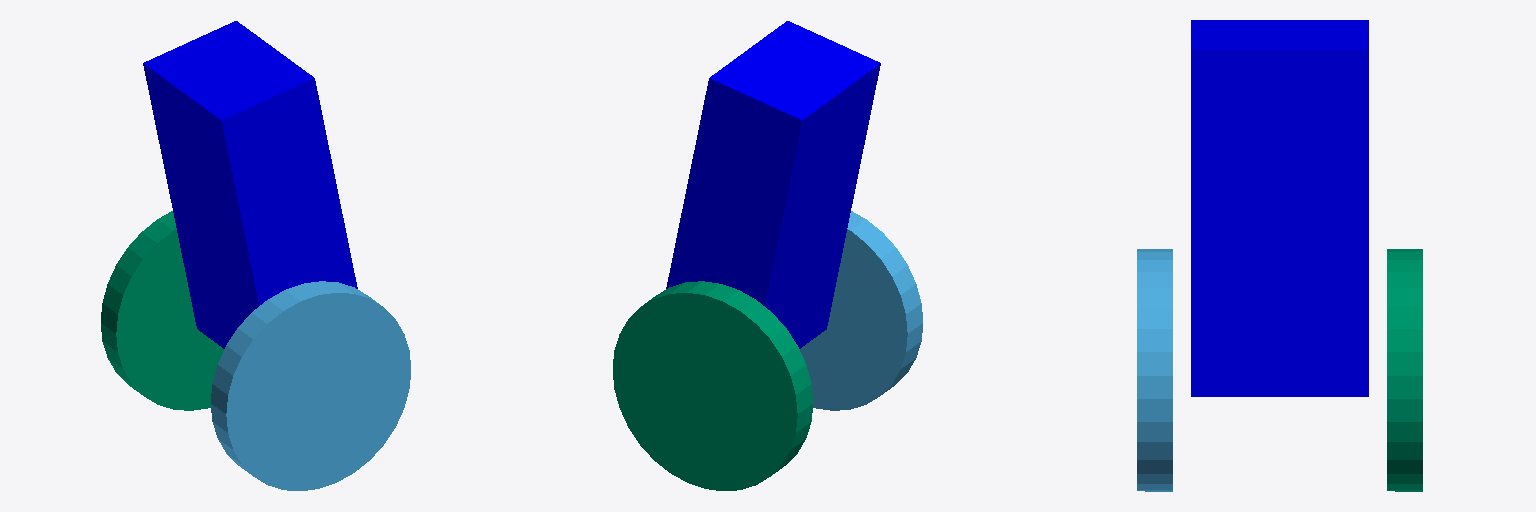
robot.urdf — simple:
<?xml version="1.0" encoding="utf-8"?>
<!-- =================================================================================== -->
<!-- |    This document was autogenerated by xacro from edumip.urdf.xacro              | -->
<!-- |    EDITING THIS FILE BY HAND IS NOT RECOMMENDED                                 | -->
<!-- =================================================================================== -->
<robot name="simple">
  <link name="base_link">
    <visual>
      <origin rpy="0 -0.20 0" xyz="0 0 0.05"/>
      <geometry>
        <box size="0.035 0.05 0.1"/>
      </geometry>
      <material name="Blue">
        <color rgba="0 0.0 1.0 0.5"/>
      </material>
    </visual>
    <collision>
      <origin rpy="0 -0.20 0" xyz="0 0 0.05"/>
      <geometry>
        <box size="0.035 0.05 0.1"/>
      </geometry>
    </collision>
    <inertial>
      <origin rpy="0 0 0" xyz="0 0 0.05"/>
      <mass value="0.180"/>
      <inertia ixx="6.0e-4" ixy="0" ixz="0" iyy="6.0e-4" iyz="0" izz="6.0e-4"/>
    </inertial>
  </link>
  <link name="left_wheel">
    <inertial>
      <origin rpy="0 0 0" xyz="0 0 0"/>
      <mass value="0.030"/>
      <inertia ixx="1.75e-5" ixy="0" ixz="0" iyy="1.75e-5" iyz="0" izz="1.75e-5"/>
    </inertial>
    <visual>
      <origin rpy="1.57 0 0" xyz="0 0 0"/>
      <geometry>
        <cylinder length="0.01" radius="0.034"/>
      </geometry>
    </visual>
    <collision>
      <origin rpy="1.57 0 0" xyz="0 0 0"/>
      <geometry>
        <cylinder length="0.01" radius="0.034"/>
      </geometry>
    </collision>
  </link>
  <link name="right_wheel">
    <inertial>
      <origin rpy="0 0 0" xyz="0 0 0"/>
      <mass value="0.030"/>
      <inertia ixx="1.75e-5" ixy="0" ixz="0" iyy="1.75e-5" iyz="0" izz="1.75e-5"/>
    </inertial>
    <visual>
      <origin rpy="1.57 0 0" xyz="0 0 0"/>
      <geometry>
        <cylinder length="0.01" radius="0.034"/>
      </geometry>
    </visual>
    <collision>
      <origin rpy="1.57 0 0" xyz="0 0 0"/>
      <geometry>
        <cylinder length="0.01" radius="0.034"/>
      </geometry>
    </collision>
  </link>
  <joint name="left_joint" type="continuous">
    <origin rpy="0 0 0" xyz="0 -0.035 0"/>
    <parent link="base_link"/>
    <child link="left_wheel"/>
    <axis xyz="0 0 1"/>
    <limit effort="1" lower="-1" upper="1" velocity="1"/>
  </joint>
  <joint name="right_joint" type="continuous">
    <origin rpy="0 0 0" xyz="0 0.035 0"/>
    <parent link="base_link"/>
    <child link="right_wheel"/>
    <axis xyz="0 0 1"/>
    <limit effort="1" lower="-1" upper="1" velocity="1"/>
  </joint>
  <link name="sonar_link">
    <!--TODO: inertial-->
    <inertial>
      <origin rpy="0 0 0" xyz="0 0 0"/>
      <mass value="0.030"/>
      <inertia ixx="1.75e-5" ixy="0" ixz="0" iyy="1.75e-5" iyz="0" izz="1.75e-5"/>
    </inertial>
    <visual>
      <origin rpy="0 0 0" xyz="0 0 0"/>
      <geometry>
        <mesh filename="package://edumip_description/meshes/HC-SR04.stl" scale="0.001 0.001 0.001"/>
      </geometry>
    </visual>
    <collision>
      <origin rpy="0 0 0" xyz="0 0 0"/>
      <geometry>
        <mesh filename="package://edumip_description/meshes/HC-SR04.stl" scale="0.001 0.001 0.001"/>
      </geometry>
    </collision>
  </link>
  <!--the topic name must be hc_sr04/scan, frame name must be sonar_link-->
  <gazebo reference="sonar_link">
    <sensor name="hc_sr04" type="ray">
      <pose>0.25 0 0 0 0 0</pose>
      <update_rate>5</update_rate>
      <ray>
        <scan>
          <horizontal>
            <samples>5</samples>
            <resolution>1.0</resolution>
            <min_angle>-0.25</min_angle>
            <max_angle>0.25</max_angle>
          </horizontal>
          <vertical>
            <samples>5</samples>
            <resolution>1</resolution>
            <min_angle>-0.25</min_angle>
            <max_angle>0.25</max_angle>
          </vertical>
        </scan>
        <range>
          <min>0.01</min>
          <max>0.75</max>
          <resolution>0.01</resolution>
        </range>
      </ray>
      <plugin filename="libgazebo_ros_range.so" name="gazebo_ros_range">
        <gaussianNoise>0.005</gaussianNoise>
        <alwaysOn>true</alwaysOn>
        <updateRate>5</updateRate>
        <topicName>sonar</topicName>
        <frameName>sonar_link</frameName>
        <fov>0.5</fov>
        <radiation>ultrasound</radiation>
      </plugin>
    </sensor>
  </gazebo>
  <joint name="hc_sr04_joint" type="fixed">
    <origin rpy="1.57 0 1.57" xyz="0.01 0 0.105"/>
    <parent link="base_link"/>
    <child link="sonar_link"/>
  </joint>
  <link name="world"/>
  <joint name="$world_joint" type="fixed">
    <origin rpy="0 0 0" xyz="0 0 0"/>
    <parent link="world"/>
    <child link="base_link"/>
  </joint>
</robot>

--- What the picture shows (computed from the rendered views, not written in the file) ---
Views: 3 orthographic renders of the robot side by side, from view 1: azimuth 30°, elevation 25°; view 2: azimuth 150°, elevation 25°; view 3: azimuth 270°, elevation 25°.
Model simple with 5 links and 4 joints (2 continuous, 2 fixed), rooted at world, posed all joints at 0.
Links seen in each view (by area): view 1: base_link, left_wheel, right_wheel; view 2: base_link, right_wheel, left_wheel; view 3: base_link, left_wheel, right_wheel.
Link boxes in pixels (bbox=[...]): base_link: bbox=[143, 21, 357, 348]; left_wheel: bbox=[211, 281, 410, 490]; right_wheel: bbox=[101, 211, 223, 410]; base_link: bbox=[666, 21, 880, 348]; right_wheel: bbox=[613, 281, 812, 490]; left_wheel: bbox=[800, 211, 922, 410]; base_link: bbox=[1191, 20, 1368, 396]; left_wheel: bbox=[1137, 249, 1172, 491]; right_wheel: bbox=[1387, 249, 1422, 491].
Bounding box of the posed robot: 0.068 × 0.0801 × 0.1365 m (x, y, z).
Meshes: 1 distinct files referenced, 0 mesh visuals loaded (none loaded); not drawn: 1 (reference not matched to a file when rendering).
